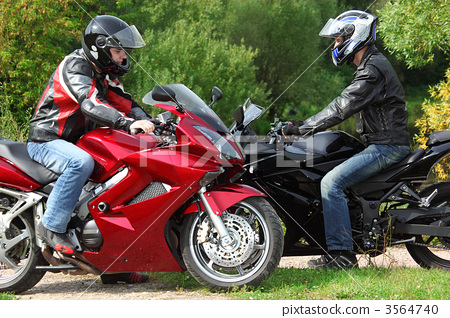helmet: (77, 15, 146, 83), (325, 10, 379, 57)
